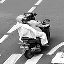motor: (15, 10, 52, 59)
